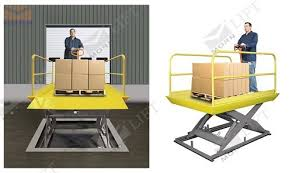Scissor Lift: (164, 49, 281, 164), (27, 52, 130, 151)
